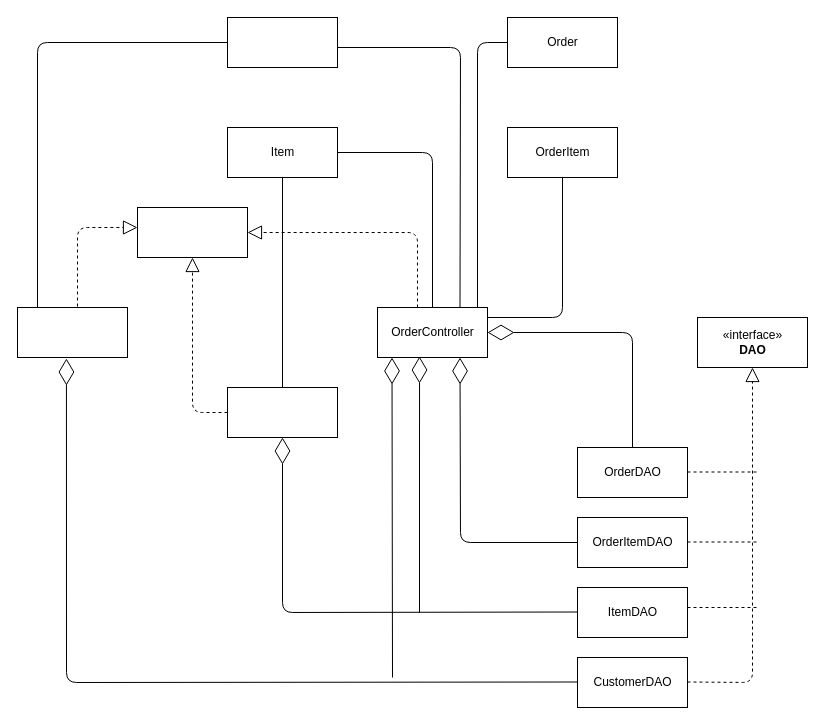
This 825x726 diagram has some shape labels left out. Here are the shapes that lost their labels. From the top down, the box of each, then its label:
(226, 16, 338, 68): Customer
(136, 206, 248, 258): «interface» CrudController
(16, 306, 128, 358): CustomerController
(226, 386, 338, 438): ItemController
